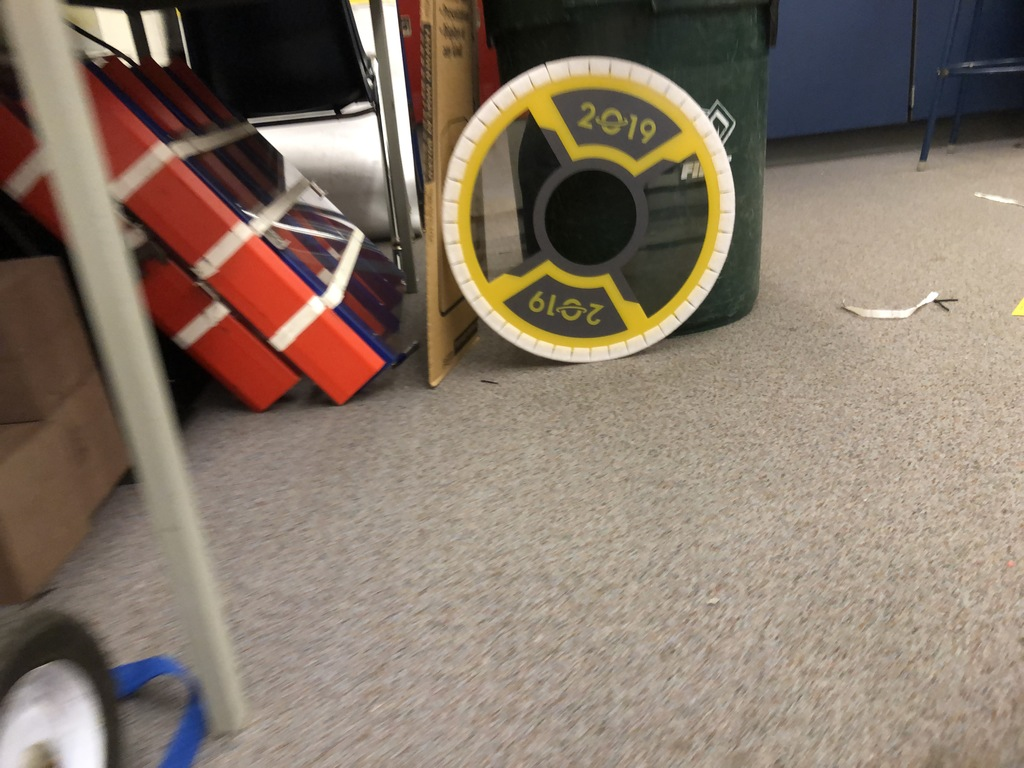hatch_panel: (436, 44, 756, 395)
